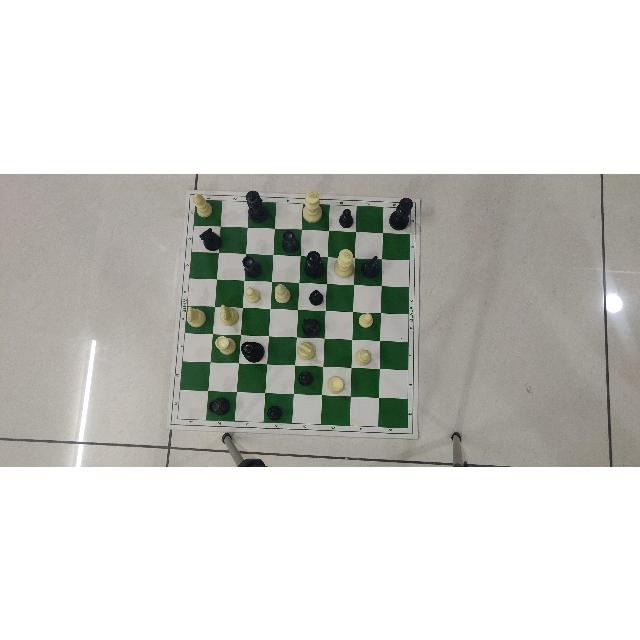black-king: (388, 196, 413, 229), (246, 189, 268, 223)
black-knight: (199, 226, 223, 250), (360, 254, 380, 278), (301, 317, 320, 337)
black-pawn: (339, 208, 354, 228), (266, 405, 283, 421), (308, 289, 323, 305), (298, 370, 314, 385)
black-queen: (304, 249, 325, 279), (241, 341, 265, 363)
black-rook: (241, 254, 262, 278), (280, 228, 299, 253), (207, 396, 230, 416)
white-bishop: (193, 192, 213, 217), (273, 282, 291, 303), (354, 348, 371, 365)
white-king: (301, 189, 322, 223), (333, 247, 354, 277)
white-knight: (186, 304, 206, 327), (219, 302, 239, 325), (296, 340, 316, 359)
white-pawn: (244, 285, 261, 303), (358, 312, 373, 328)
white-rook: (215, 334, 237, 355), (326, 375, 345, 393)
